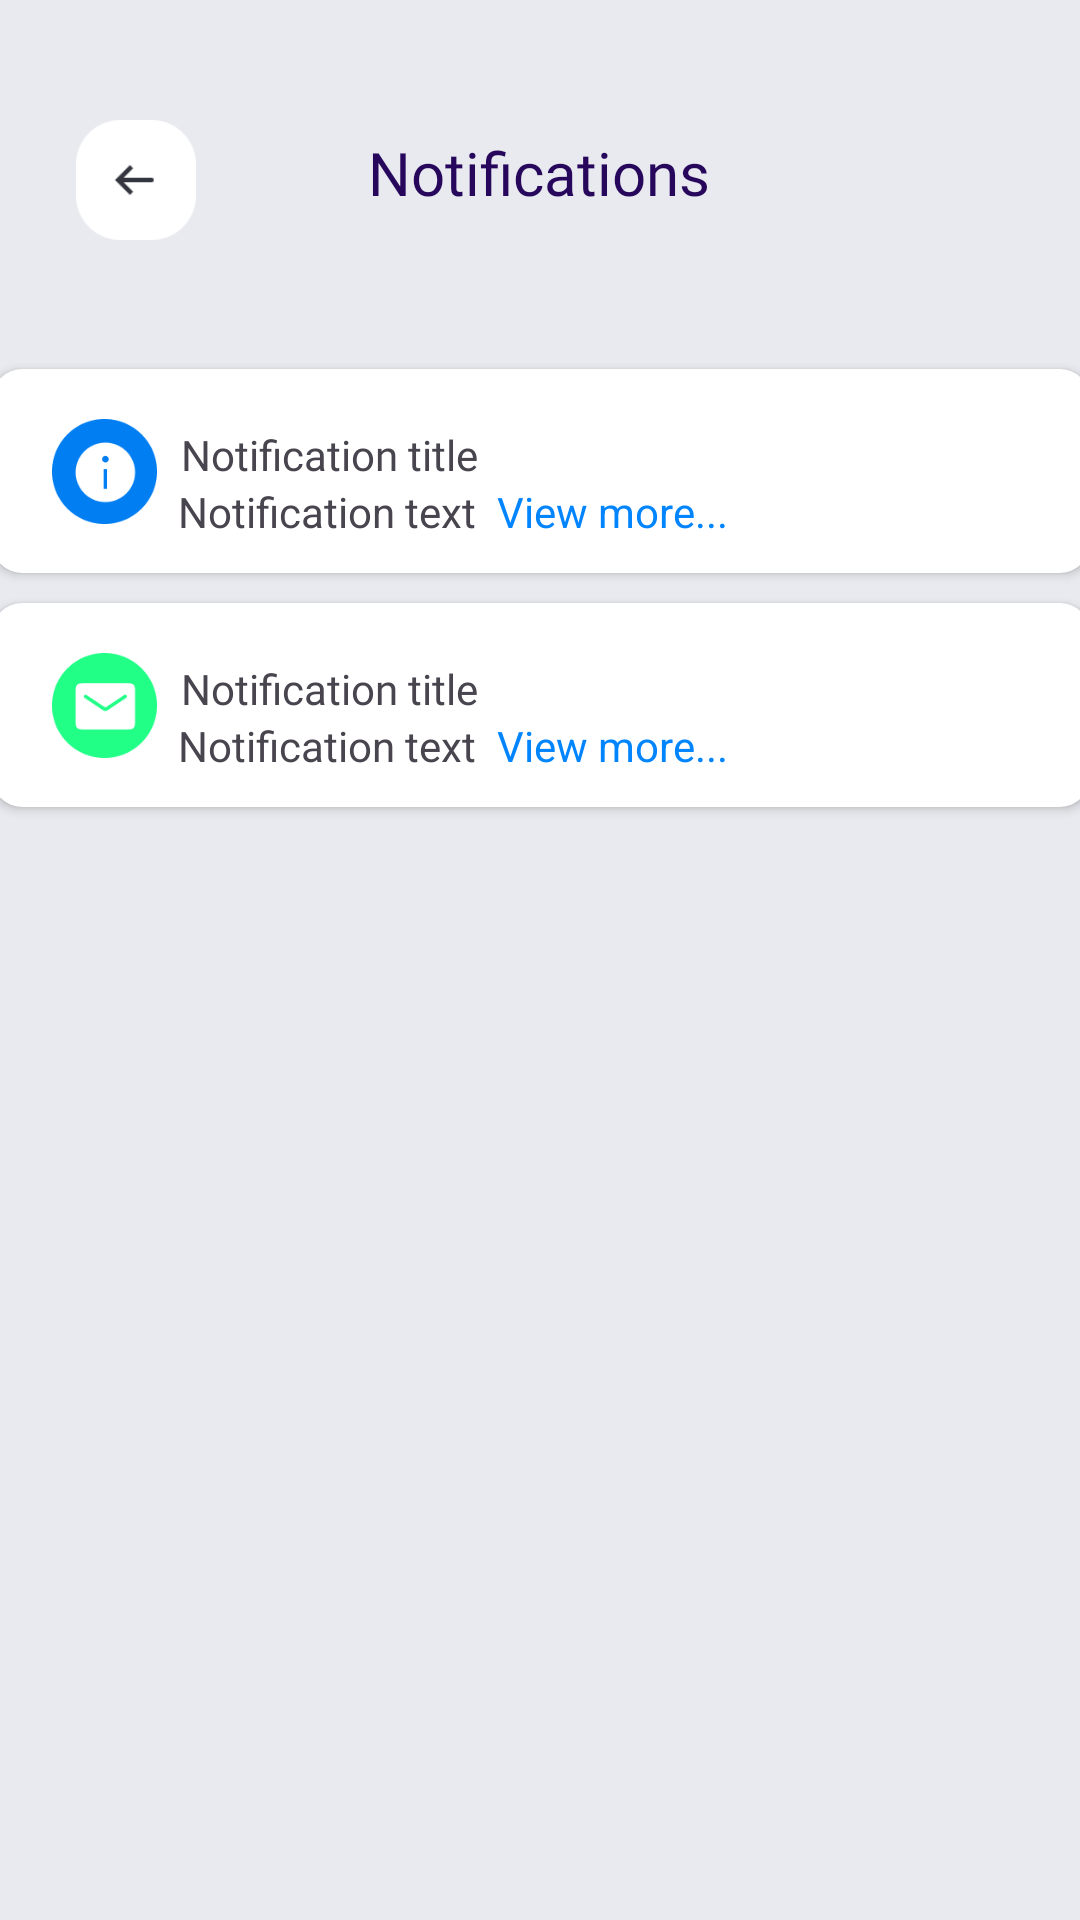

Where icons sit on this 1080px x 1920px app screen, as [x1,y1,x2,y2]:
arrow: [76,120,196,240]
email: [52,653,157,758]
info: [52,419,157,524]
